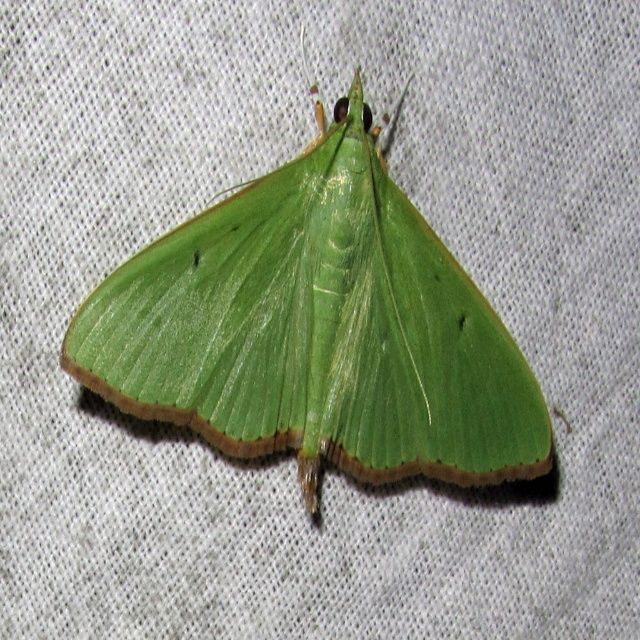Butterfly: (70, 36, 557, 533)
